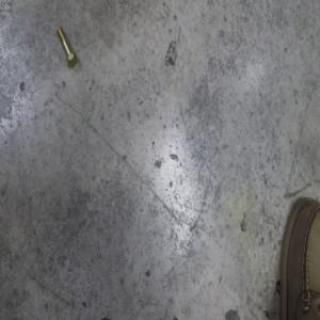Bolttrack_idkeyframe: (55, 23, 77, 68)
